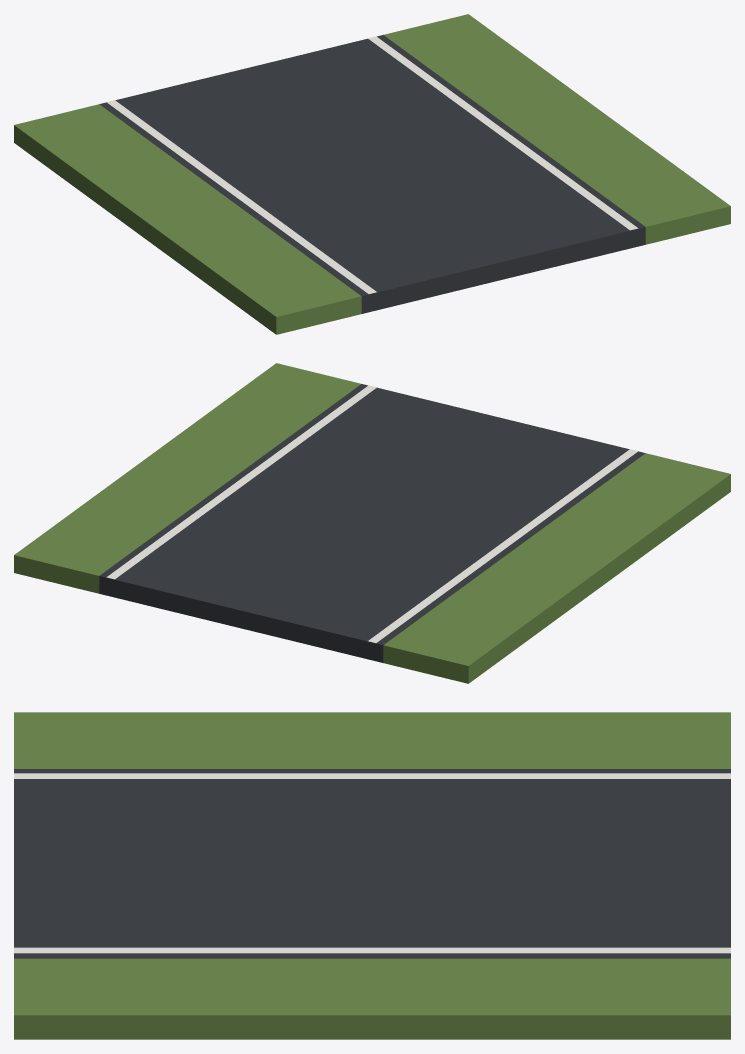
The model's file is HighwayRamp_1Lane_Straight_8m.glb.
The picture shows the model from 3 angles, top to bottom: view 1: azimuth 30°, elevation 25°; view 2: azimuth 150°, elevation 25°; view 3: azimuth 270°, elevation 25°; orthographic projection. The views are drawn at different scales.
Visible parts, largest first — view 1: HighwayRamp_1Lane_Straight_8m_Asphalt, HighwayRamp_1Lane_Straight_8m_Grass-edge, HighwayRamp_1Lane_Straight_8m_PaintWhite; view 2: HighwayRamp_1Lane_Straight_8m_Asphalt, HighwayRamp_1Lane_Straight_8m_Grass-edge, HighwayRamp_1Lane_Straight_8m_PaintWhite; view 3: HighwayRamp_1Lane_Straight_8m_Asphalt, HighwayRamp_1Lane_Straight_8m_Grass-edge, HighwayRamp_1Lane_Straight_8m_PaintWhite.
Part boxes in pixels (x1,y1,x2,y2): HighwayRamp_1Lane_Straight_8m_Asphalt: (99, 35, 645, 313); HighwayRamp_1Lane_Straight_8m_Grass-edge: (14, 14, 730, 334); HighwayRamp_1Lane_Straight_8m_PaintWhite: (106, 36, 638, 293); HighwayRamp_1Lane_Straight_8m_Asphalt: (99, 384, 645, 662); HighwayRamp_1Lane_Straight_8m_Grass-edge: (14, 363, 730, 683); HighwayRamp_1Lane_Straight_8m_PaintWhite: (106, 385, 638, 642); HighwayRamp_1Lane_Straight_8m_Asphalt: (14, 769, 730, 958); HighwayRamp_1Lane_Straight_8m_Grass-edge: (14, 712, 730, 1039); HighwayRamp_1Lane_Straight_8m_PaintWhite: (14, 773, 730, 953).
Size of the model in its own units: 8 by 0.305 by 8.
